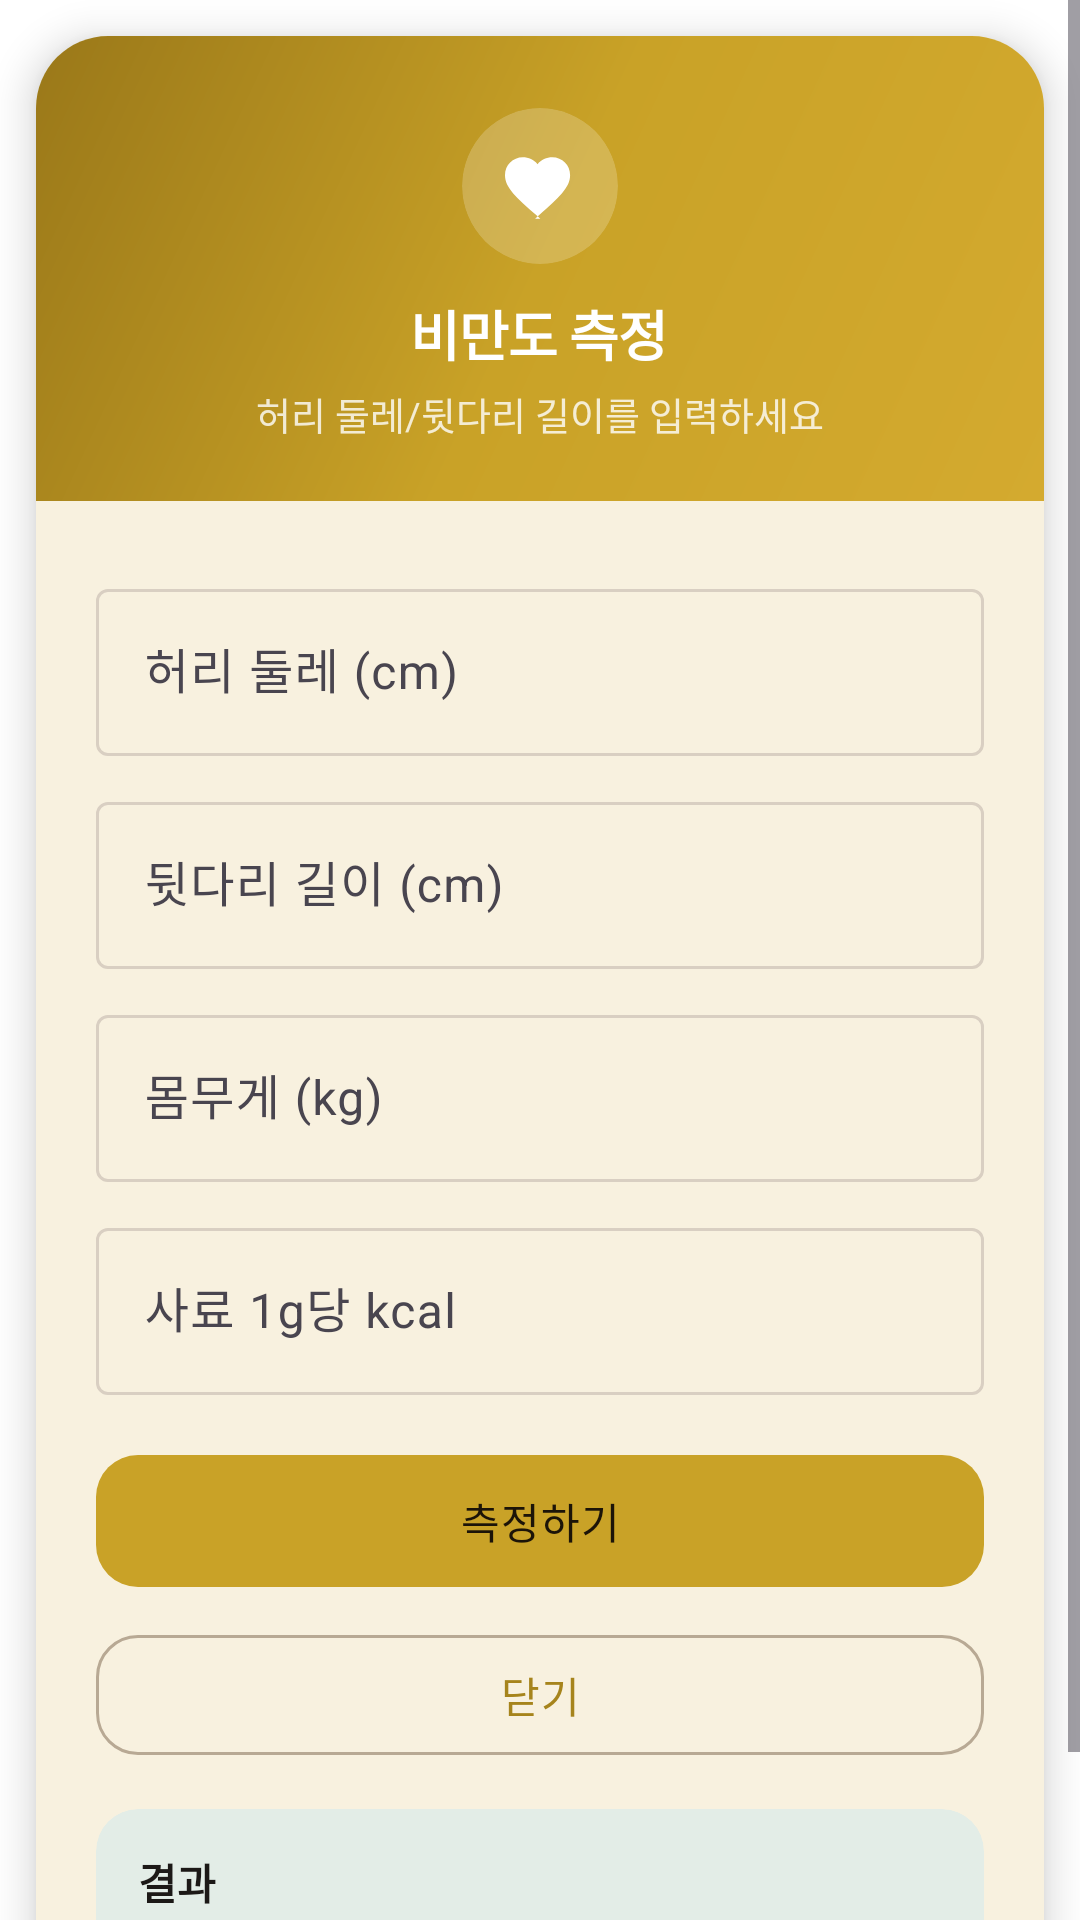

Locate icon controls on the screen. Image size 1080x1920, boxes as (left=x1, top=y1, right=x2, bottom=y2).
heart: (left=462, top=108, right=618, bottom=264)
